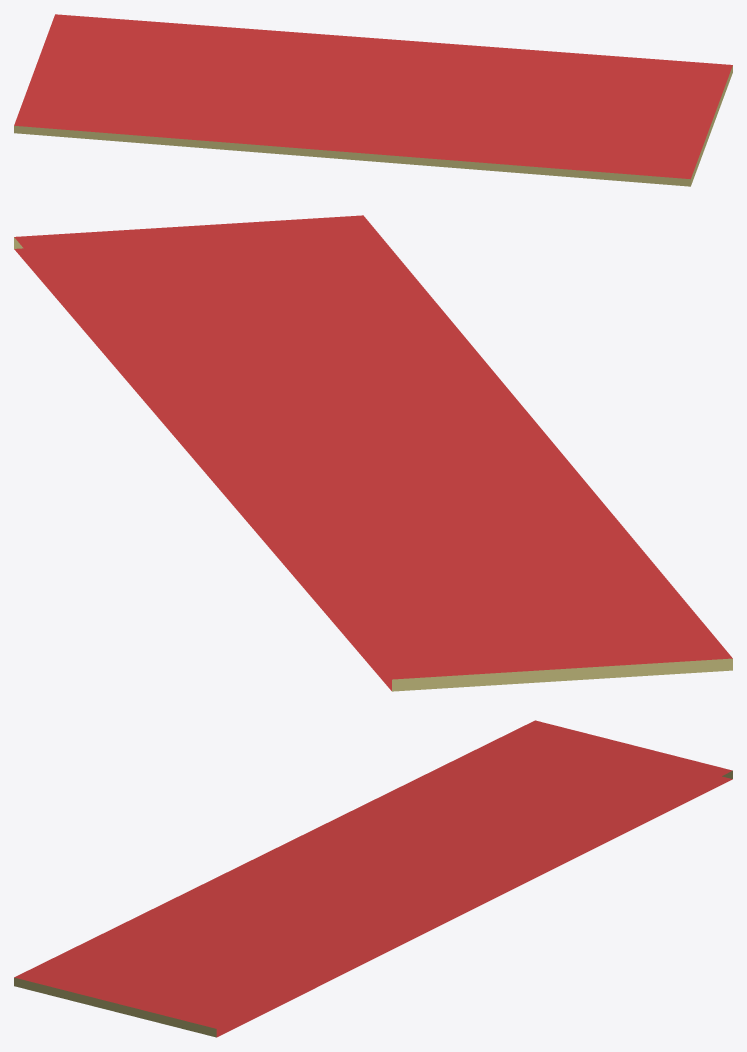
3 views of the same model, one above another, from view 1: azimuth 30°, elevation 25°; view 2: azimuth 150°, elevation 25°; view 3: azimuth 270°, elevation 25° (orthographic). The views are drawn at different scales.
Size of the model in its own units: 8.16 by 7.51 by 0.353.
